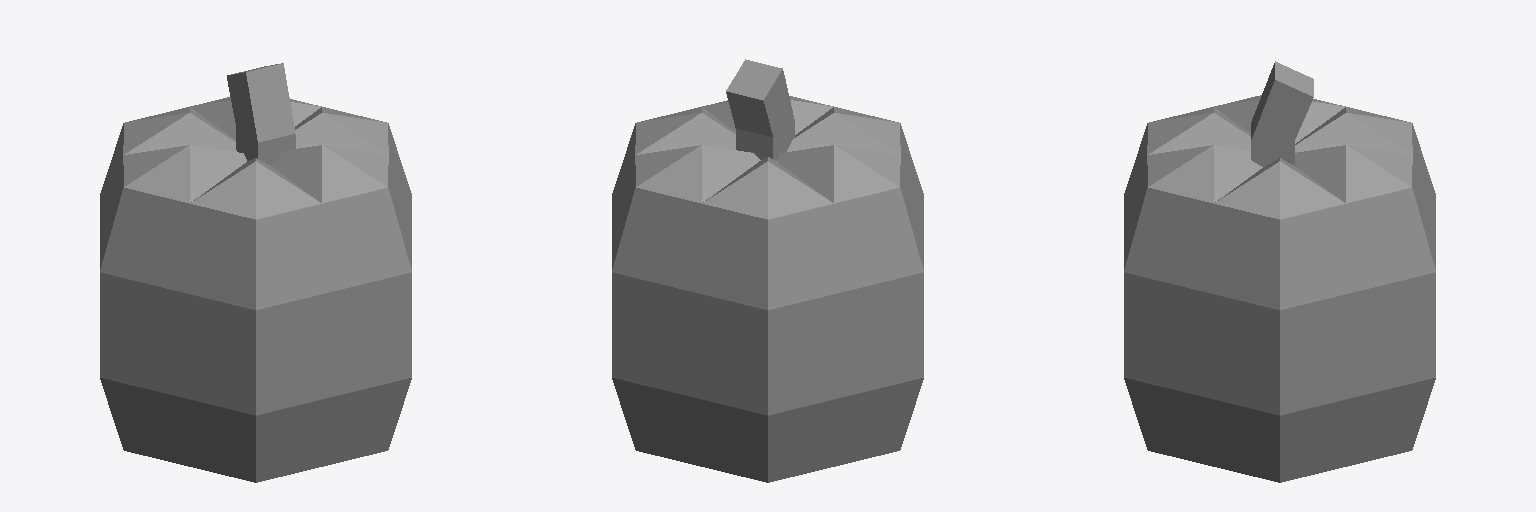
The model's file is pumpkin_04_01_b.obj.
The picture shows the model from 3 angles: view 1: azimuth 30°, elevation 25°; view 2: azimuth 150°, elevation 25°; view 3: azimuth 270°, elevation 25°; orthographic projection.
Parts seen in each view (by area): view 1: pumpkin_04_01_b; view 2: pumpkin_04_01_b; view 3: pumpkin_04_01_b.
Part boxes in pixels (bbox=[...]): pumpkin_04_01_b: bbox=[100, 63, 411, 482]; pumpkin_04_01_b: bbox=[612, 59, 923, 482]; pumpkin_04_01_b: bbox=[1124, 61, 1435, 482].
Bounding box in the file's own units: 2.06 × 2.38 × 1.79.